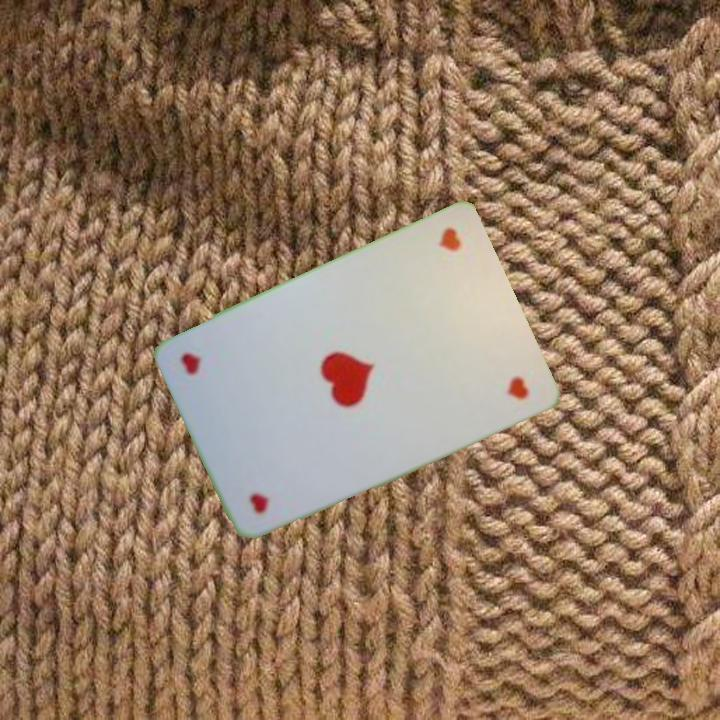h_a.png: (210, 403, 328, 528), (385, 219, 503, 343)
